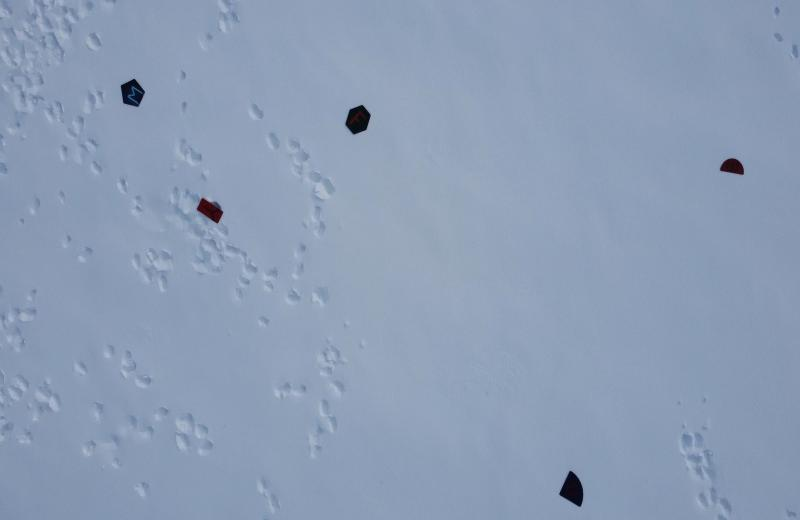Hexagon: (344, 103, 376, 137)
Pentagon: (119, 76, 148, 110)
Quarter Circle: (554, 467, 588, 509)
Rectangle: (196, 197, 225, 225)
Semi Circle: (716, 155, 747, 180)
